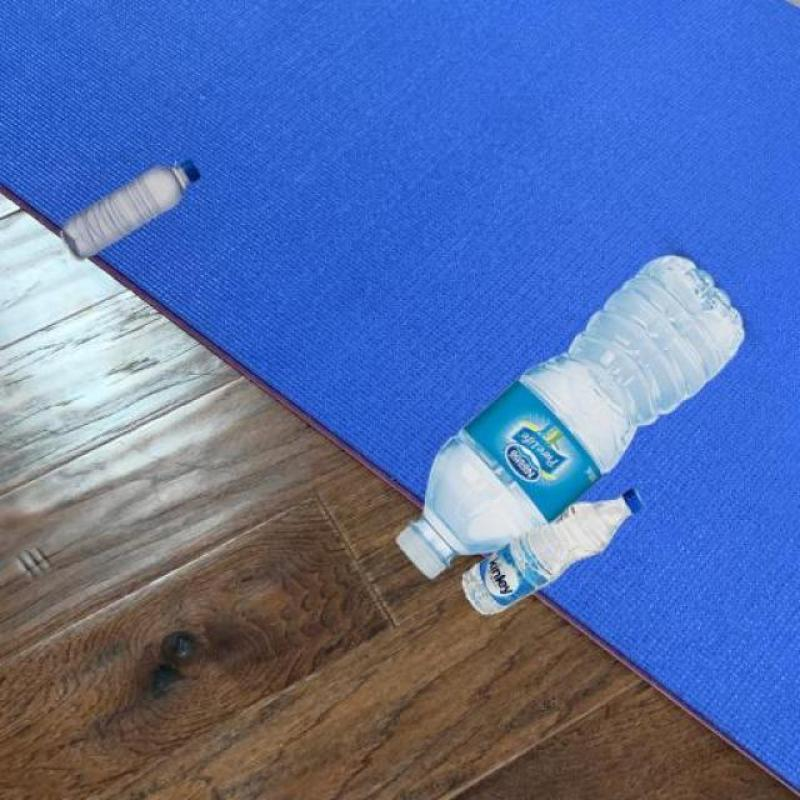botella: (396, 257, 748, 582), (456, 490, 645, 616), (61, 160, 200, 260)
